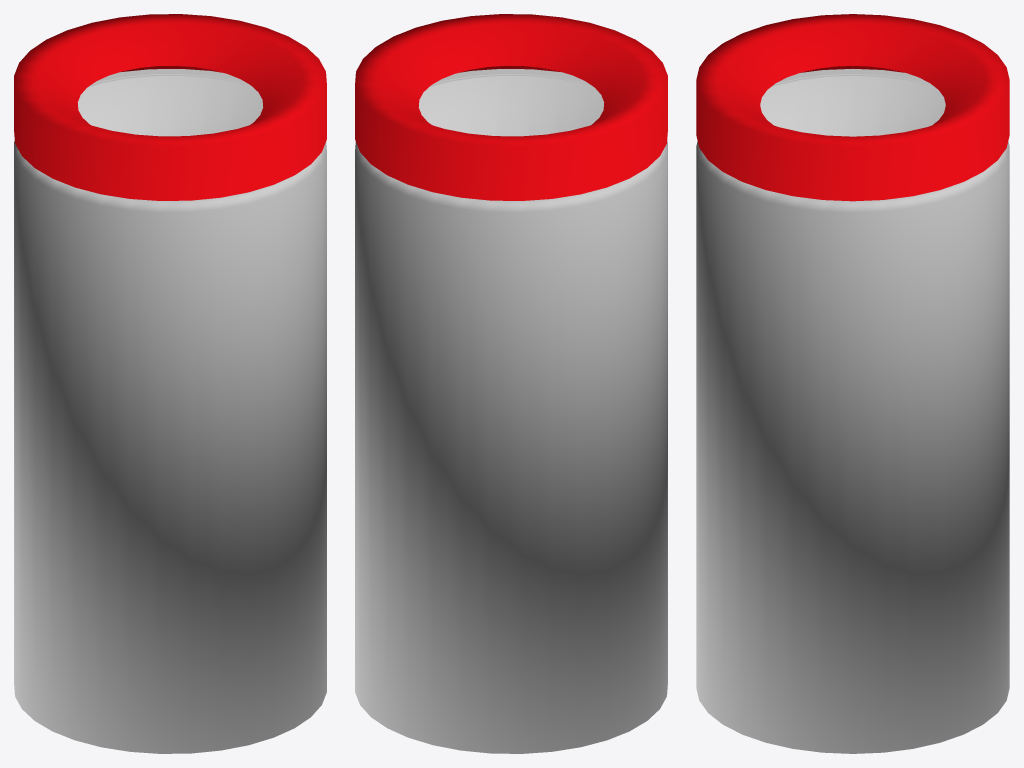
Rendered from lixeira plastico.fbx.
3 views of the same model, side by side, from view 1: azimuth 30°, elevation 25°; view 2: azimuth 150°, elevation 25°; view 3: azimuth 270°, elevation 25° (orthographic).
Parts seen in each view (by area): view 1: Cylinder; view 2: Cylinder; view 3: Cylinder.
Boxes of the visible parts, <box> form: Cylinder: <box>14,14,326,753</box>; Cylinder: <box>355,14,667,753</box>; Cylinder: <box>696,14,1009,753</box>.
Bounding box in the file's own units: 200 × 428 × 200.
